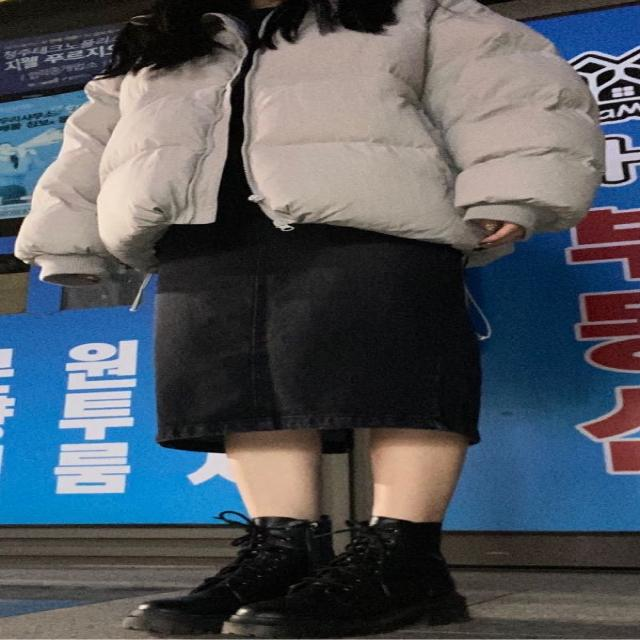padding: (15, 0, 610, 288)
skirt: (154, 218, 491, 454)
